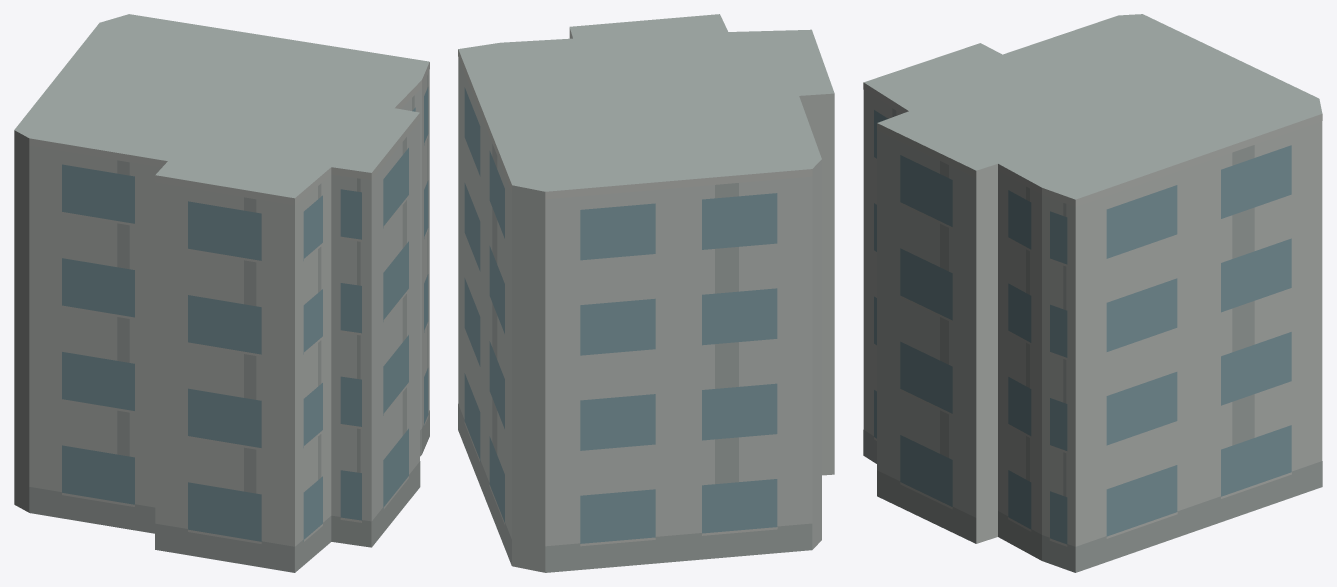
Rendered from residential-910cf9df-847c-4e78-b446-8fbe50f795d2.glb.
3 views of the same model, side by side, from view 1: azimuth 30°, elevation 25°; view 2: azimuth 150°, elevation 25°; view 3: azimuth 270°, elevation 25° (orthographic). The views are drawn at different scales.
Parts seen in each view (by area): view 1: residential-910cf9df-847c-4e78-b446-8fbe50f795d2.tmp; view 2: residential-910cf9df-847c-4e78-b446-8fbe50f795d2.tmp; view 3: residential-910cf9df-847c-4e78-b446-8fbe50f795d2.tmp.
Boxes of the visible parts, left/top/right/bottom form: residential-910cf9df-847c-4e78-b446-8fbe50f795d2.tmp: left=14, top=14, right=429, bottom=572; residential-910cf9df-847c-4e78-b446-8fbe50f795d2.tmp: left=458, top=14, right=834, bottom=572; residential-910cf9df-847c-4e78-b446-8fbe50f795d2.tmp: left=863, top=14, right=1322, bottom=572.
Size of the model in its own units: 13.02 by 12.2 by 13.6.
